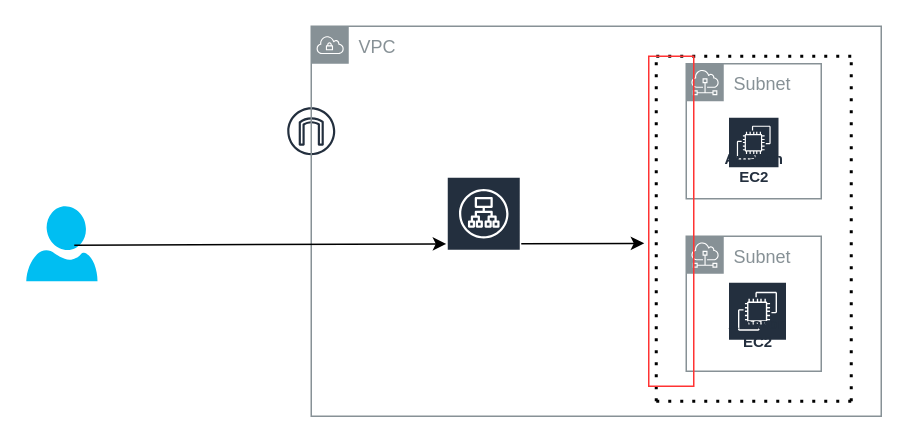
The diagram is 908 pixels wide and 443 high, and some of its shapes have lost their labels. The centre of each missing label's shape, as x and y in pixels:
"Application Load Balancer" belongs at point (483, 243).
"Internet gateway" belongs at point (310, 130).
"TARGET GROUP" belongs at point (670, 220).
